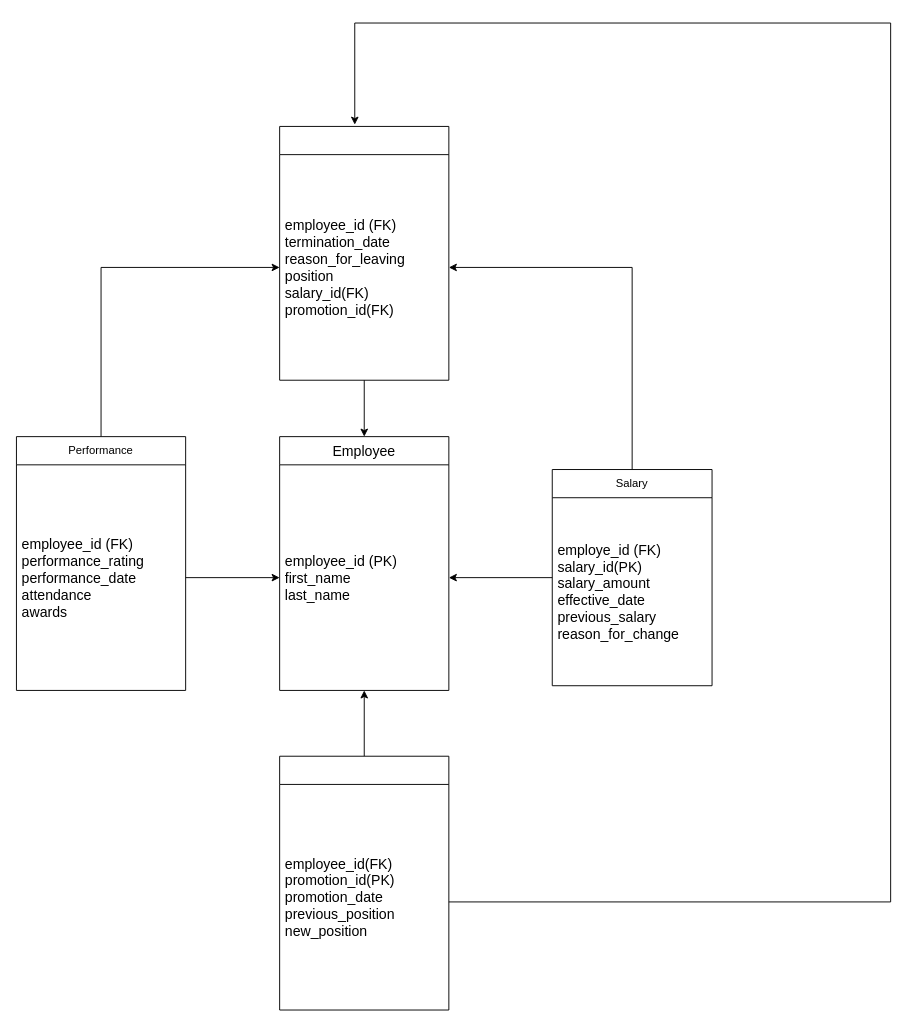
Some shapes in this 915 by 1026 pixel diagram are drawn without their labels. Each missing label, with the box of its shape:
Attrition: (279, 125, 449, 380)
Promotions: (279, 755, 449, 1010)
